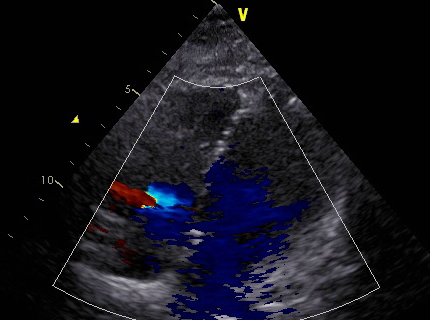TR: (133, 178, 204, 251)
